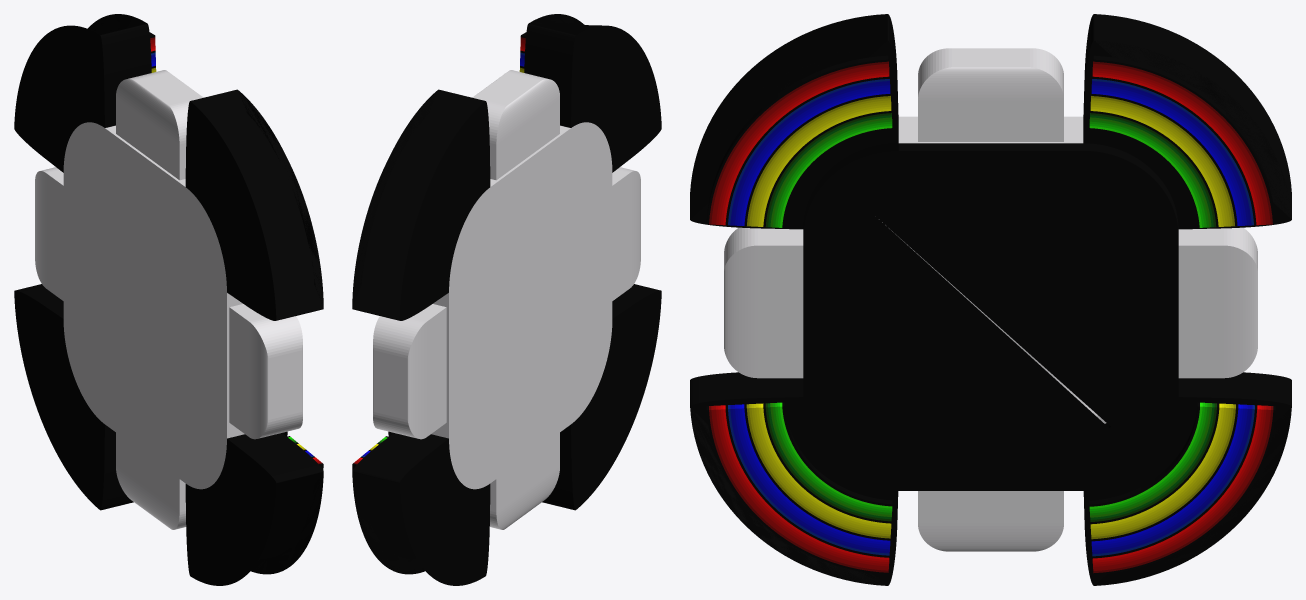
File: enemy_spinner.fbx
The picture shows the model from 3 angles, left to right: view 1: azimuth 30°, elevation 25°; view 2: azimuth 150°, elevation 25°; view 3: azimuth 270°, elevation 25°; orthographic projection. The views are drawn at different scales.
Parts seen in each view (by area): view 1: Cube; view 2: Cube; view 3: Cube.
Boxes of the visible parts, box(x1,y1,x2,y2) form: Cube: box(14, 14, 323, 585); Cube: box(352, 14, 661, 585); Cube: box(690, 14, 1291, 585).
Bounding box in the file's own units: 42.7 × 318 × 318.
